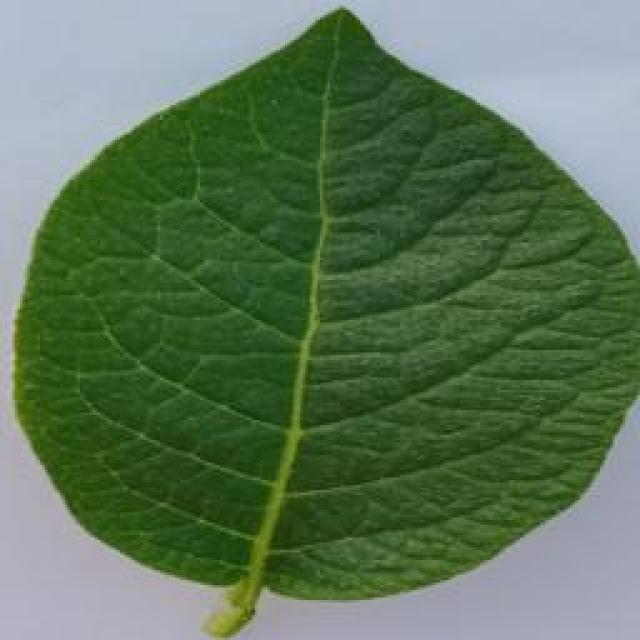Potato_Healthy: (14, 4, 631, 631)
